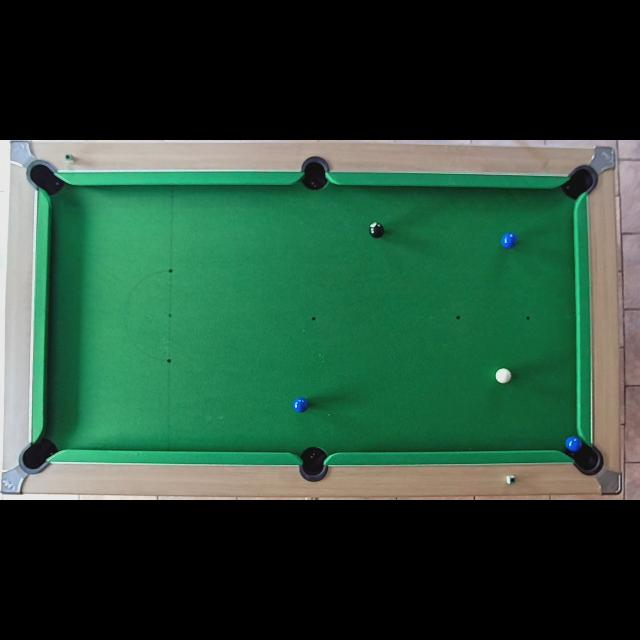Ball: (368, 221, 384, 239), (565, 436, 583, 452), (292, 398, 310, 414), (496, 368, 512, 384), (501, 233, 517, 249)
